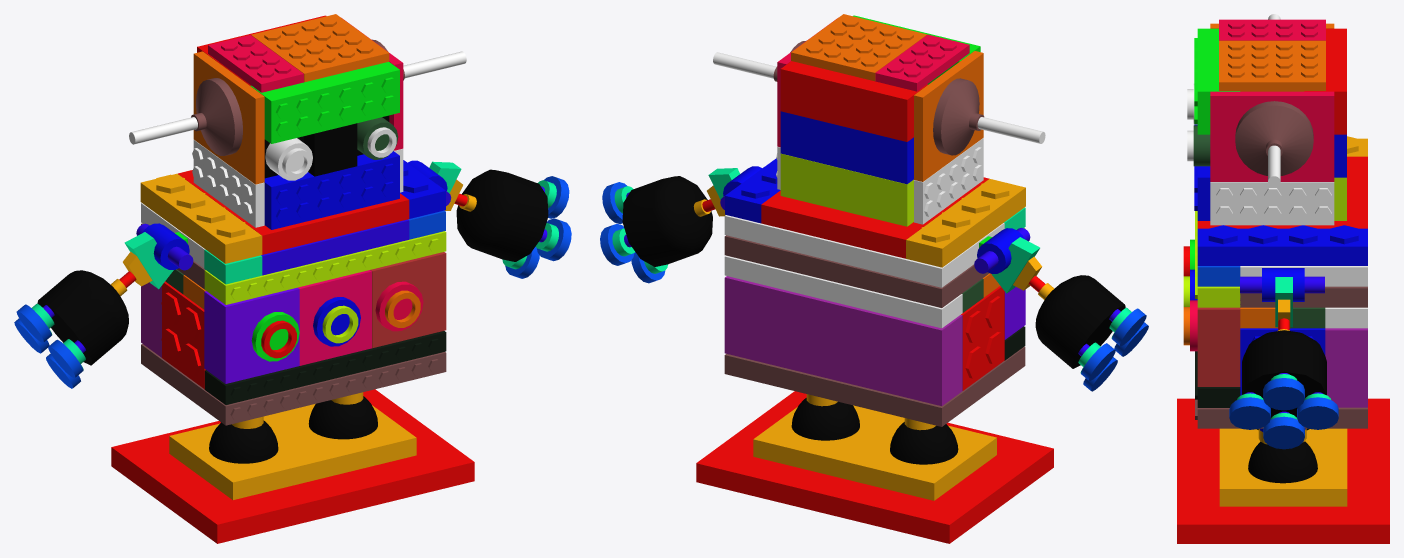
The model's file is Brick_Robots_2_.fbx.
3 renders of one model, left to right at view 1: azimuth 30°, elevation 25°; view 2: azimuth 150°, elevation 25°; view 3: azimuth 270°, elevation 25°, orthographic.
Visible parts, largest first — view 1: Brick_Robots_2_008, Brick_Robots_2_005, Brick_Robots_2_000, Brick_Robots_2_007, Brick_Robots_2_003, Brick_Robots_2_004, Brick_Robots_2_001, Brick_Robots_2_002, Brick_Robots_2_006; view 2: Brick_Robots_2_008, Brick_Robots_2_005, Brick_Robots_2_000, Brick_Robots_2_007, Brick_Robots_2_003, Brick_Robots_2_004, Brick_Robots_2_001, Brick_Robots_2_002, Brick_Robots_2_006; view 3: Brick_Robots_2_005, Brick_Robots_2_008, Brick_Robots_2_000, Brick_Robots_2_007, Brick_Robots_2_006, Brick_Robots_2_002.
Part boxes in pixels (x1,y1,x2,y2): Brick_Robots_2_008: (140,160,446,425); Brick_Robots_2_005: (129,14,466,229); Brick_Robots_2_000: (111,389,474,543); Brick_Robots_2_007: (454,169,571,278); Brick_Robots_2_003: (14,270,136,388); Brick_Robots_2_004: (123,223,193,289); Brick_Robots_2_001: (209,416,278,463); Brick_Robots_2_002: (308,392,377,439); Brick_Robots_2_006: (407,160,462,210); Brick_Robots_2_008: (724,158,1025,426); Brick_Robots_2_005: (713,14,1045,226); Brick_Robots_2_000: (696,391,1053,543); Brick_Robots_2_007: (600,176,715,283); Brick_Robots_2_003: (1028,275,1148,391); Brick_Robots_2_004: (974,227,1042,293); Brick_Robots_2_001: (890,418,958,464); Brick_Robots_2_002: (791,394,859,440); Brick_Robots_2_006: (707,166,763,216); Brick_Robots_2_005: (1187,14,1346,225); Brick_Robots_2_008: (1183,136,1367,428); Brick_Robots_2_000: (1177,398,1389,543); Brick_Robots_2_007: (1229,318,1338,449); Brick_Robots_2_006: (1240,268,1324,328); Brick_Robots_2_002: (1248,428,1317,483).
Bounding box in the file's own units: 623 × 472 × 211.
